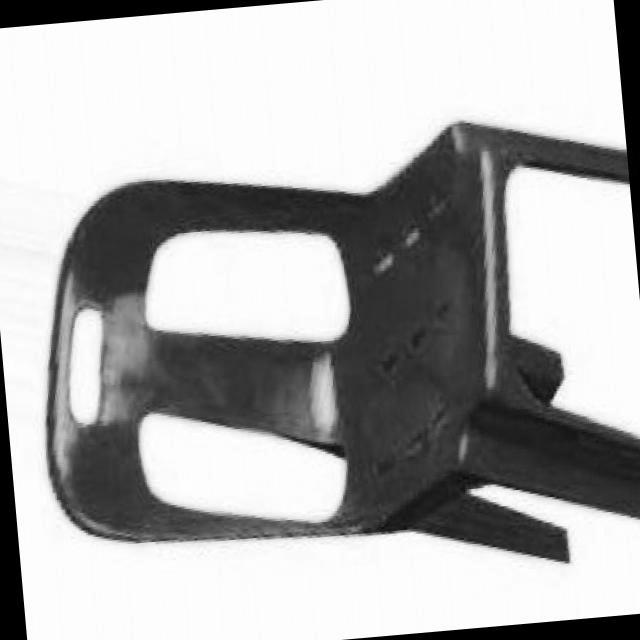chair: (17, 98, 640, 607)
